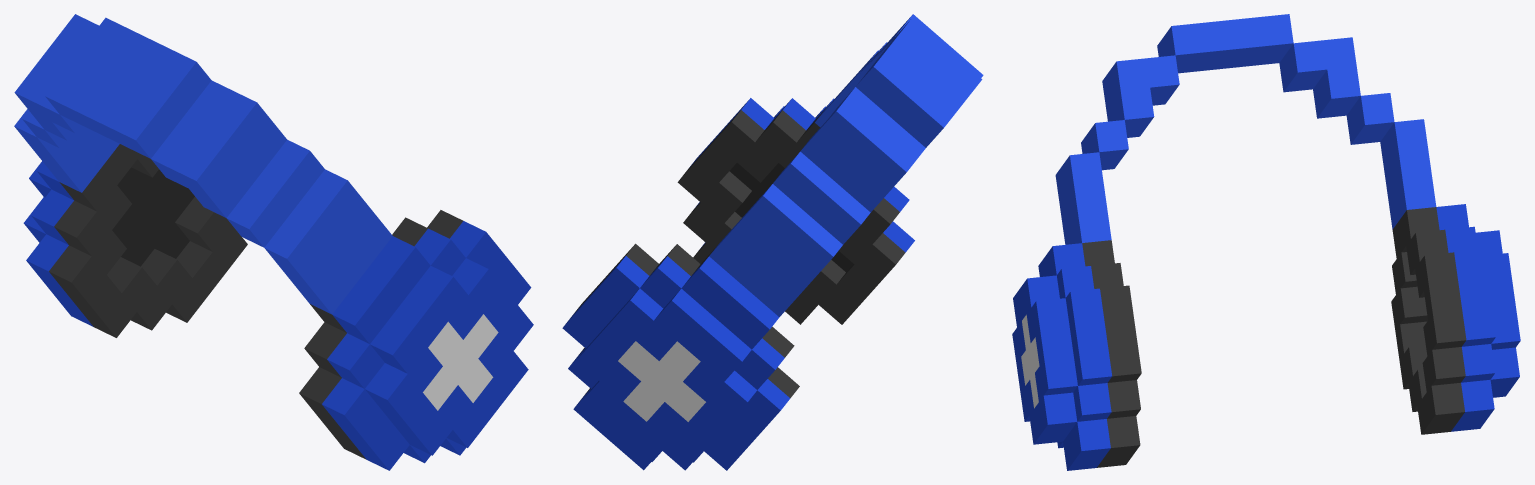
File: headphones_0_lev1_lev3.glb
3 views of the same model, side by side, from view 1: azimuth 30°, elevation 25°; view 2: azimuth 150°, elevation 25°; view 3: azimuth 270°, elevation 25° (orthographic). The views are drawn at different scales.
Visible parts, largest first — view 1: headphones_0_lev1_lev3; view 2: headphones_0_lev1_lev3; view 3: headphones_0_lev1_lev3.
Part boxes in pixels (x1,y1,x2,y2): headphones_0_lev1_lev3: [14, 14, 533, 470]; headphones_0_lev1_lev3: [562, 14, 983, 470]; headphones_0_lev1_lev3: [1012, 14, 1520, 470].
Size of the model in its own units: 0.4437 by 0.4512 by 0.5815.
Materials: 1 (1 with a texture image).
